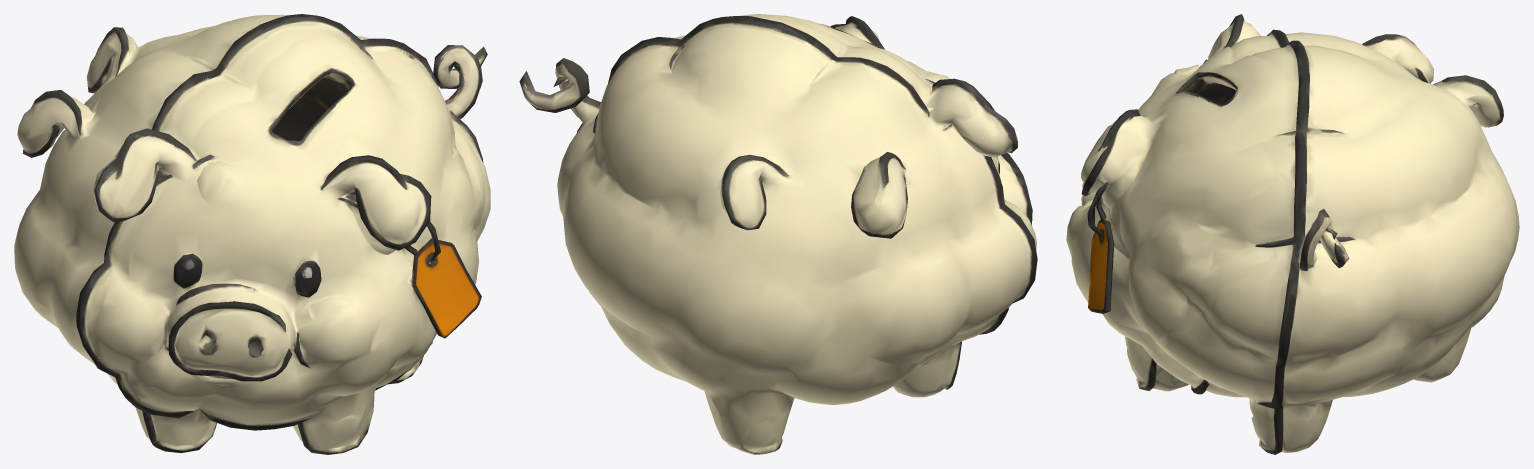
The model's file is set-overpay-cloud.glb.
3 views of the same model, side by side, from view 1: azimuth 30°, elevation 25°; view 2: azimuth 150°, elevation 25°; view 3: azimuth 270°, elevation 25° (orthographic). The views are drawn at different scales.
Parts seen in each view (by area): view 1: tripo_node_0bf2e15d-9699-4293-a056-e37e881acce9; view 2: tripo_node_0bf2e15d-9699-4293-a056-e37e881acce9; view 3: tripo_node_0bf2e15d-9699-4293-a056-e37e881acce9.
Part boxes in pixels (x1=…): tripo_node_0bf2e15d-9699-4293-a056-e37e881acce9: x1=14, y1=14, x2=490, y2=454; tripo_node_0bf2e15d-9699-4293-a056-e37e881acce9: x1=519, y1=14, x2=1037, y2=454; tripo_node_0bf2e15d-9699-4293-a056-e37e881acce9: x1=1066, y1=14, x2=1519, y2=454.
Size of the model in its own units: 1 by 0.7626 by 0.8931.
1 material, 1 textured.
